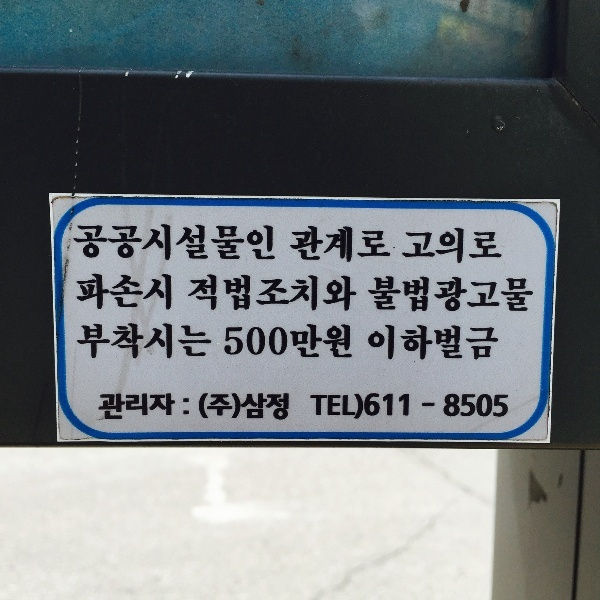text: (417, 226, 432, 271), (433, 226, 448, 271), (449, 226, 464, 271), (465, 226, 480, 271), (481, 226, 496, 271), (81, 226, 96, 264), (97, 226, 112, 264), (113, 226, 128, 264), (129, 226, 144, 264), (145, 226, 160, 264), (161, 226, 176, 264), (177, 226, 192, 264), (193, 226, 208, 264), (209, 226, 224, 264), (225, 226, 240, 264), (241, 226, 256, 264), (257, 226, 272, 264), (305, 226, 320, 264), (321, 226, 336, 264), (337, 226, 352, 264), (353, 226, 368, 264), (369, 226, 384, 264), (193, 274, 208, 311), (209, 274, 224, 311), (225, 274, 240, 311), (241, 274, 256, 311), (257, 274, 272, 311), (273, 274, 288, 311), (289, 274, 304, 311), (305, 274, 320, 311), (321, 274, 336, 311), (337, 274, 352, 311), (81, 274, 96, 310), (97, 274, 112, 310), (113, 274, 128, 310), (129, 274, 144, 310), (145, 274, 160, 310), (369, 277, 384, 313), (385, 277, 400, 313), (401, 277, 416, 313), (417, 277, 432, 313), (433, 277, 448, 313), (449, 277, 464, 313), (465, 277, 480, 313), (481, 277, 496, 313), (497, 277, 512, 313), (513, 277, 528, 313), (97, 324, 112, 360), (113, 324, 128, 360), (129, 324, 144, 360), (145, 324, 160, 360), (161, 324, 176, 360), (177, 324, 192, 360), (193, 324, 208, 360), (241, 324, 256, 360), (257, 324, 272, 360), (273, 324, 288, 360), (289, 324, 304, 360), (305, 324, 320, 360), (321, 324, 336, 360), (337, 324, 352, 360), (369, 326, 384, 361), (385, 326, 400, 361), (401, 326, 416, 361), (417, 326, 432, 361), (433, 326, 448, 361), (449, 326, 464, 361), (465, 326, 480, 361), (481, 326, 496, 361), (82, 324, 96, 360), (405, 226, 416, 271), (209, 392, 224, 424), (225, 392, 240, 424), (241, 392, 256, 424), (257, 392, 272, 424), (273, 392, 288, 424), (227, 324, 240, 360), (292, 226, 304, 264), (113, 391, 128, 421), (129, 391, 144, 421), (145, 391, 160, 421), (161, 391, 176, 421), (161, 274, 172, 310), (177, 391, 190, 421), (321, 394, 336, 420), (337, 394, 352, 420), (369, 393, 384, 417), (385, 393, 400, 417), (401, 393, 416, 417), (417, 393, 432, 417), (433, 393, 448, 417), (449, 393, 464, 417), (465, 393, 480, 417), (481, 393, 496, 417), (101, 391, 112, 421), (198, 392, 208, 424), (385, 226, 393, 264), (497, 393, 509, 417), (353, 394, 364, 420), (497, 226, 503, 271), (310, 394, 320, 420), (529, 277, 534, 313), (353, 274, 357, 311), (273, 226, 276, 264), (77, 274, 80, 310), (209, 324, 212, 360), (78, 226, 80, 264), (365, 393, 368, 417), (497, 326, 499, 361), (191, 274, 192, 311), (289, 392, 290, 424)
